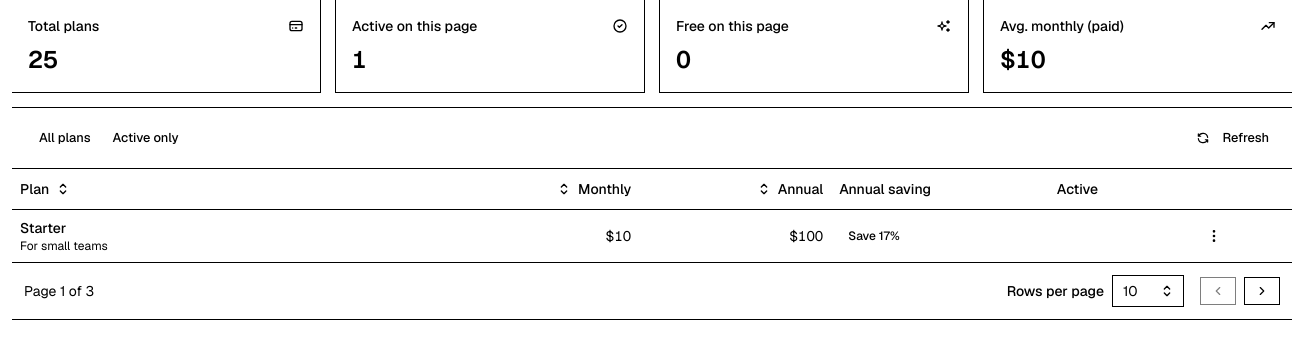
Scenario: PlanAdmin extras › shows the active-only stat label when filtered to active plans
The width and height of the screenshot is (1292, 337).
Expected: the text "Starter" is shown, x1=20 y1=218 x2=66 y2=238
What coordinates should you click on to do the following:
click the button "Active only"
I would click on:
 (146, 138)
Its box is x1=102 y1=124 x2=190 y2=152.
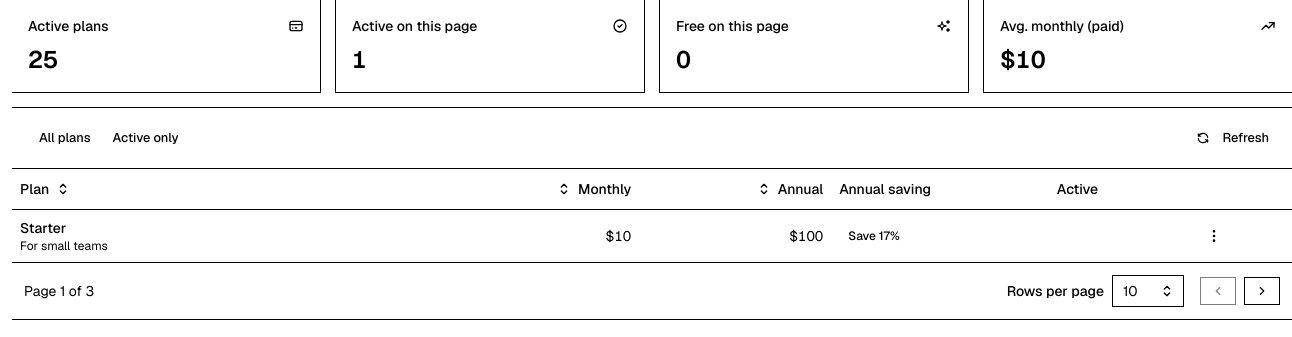
Expected: the text "Active plans" is shown, x1=28 y1=16 x2=109 y2=36
